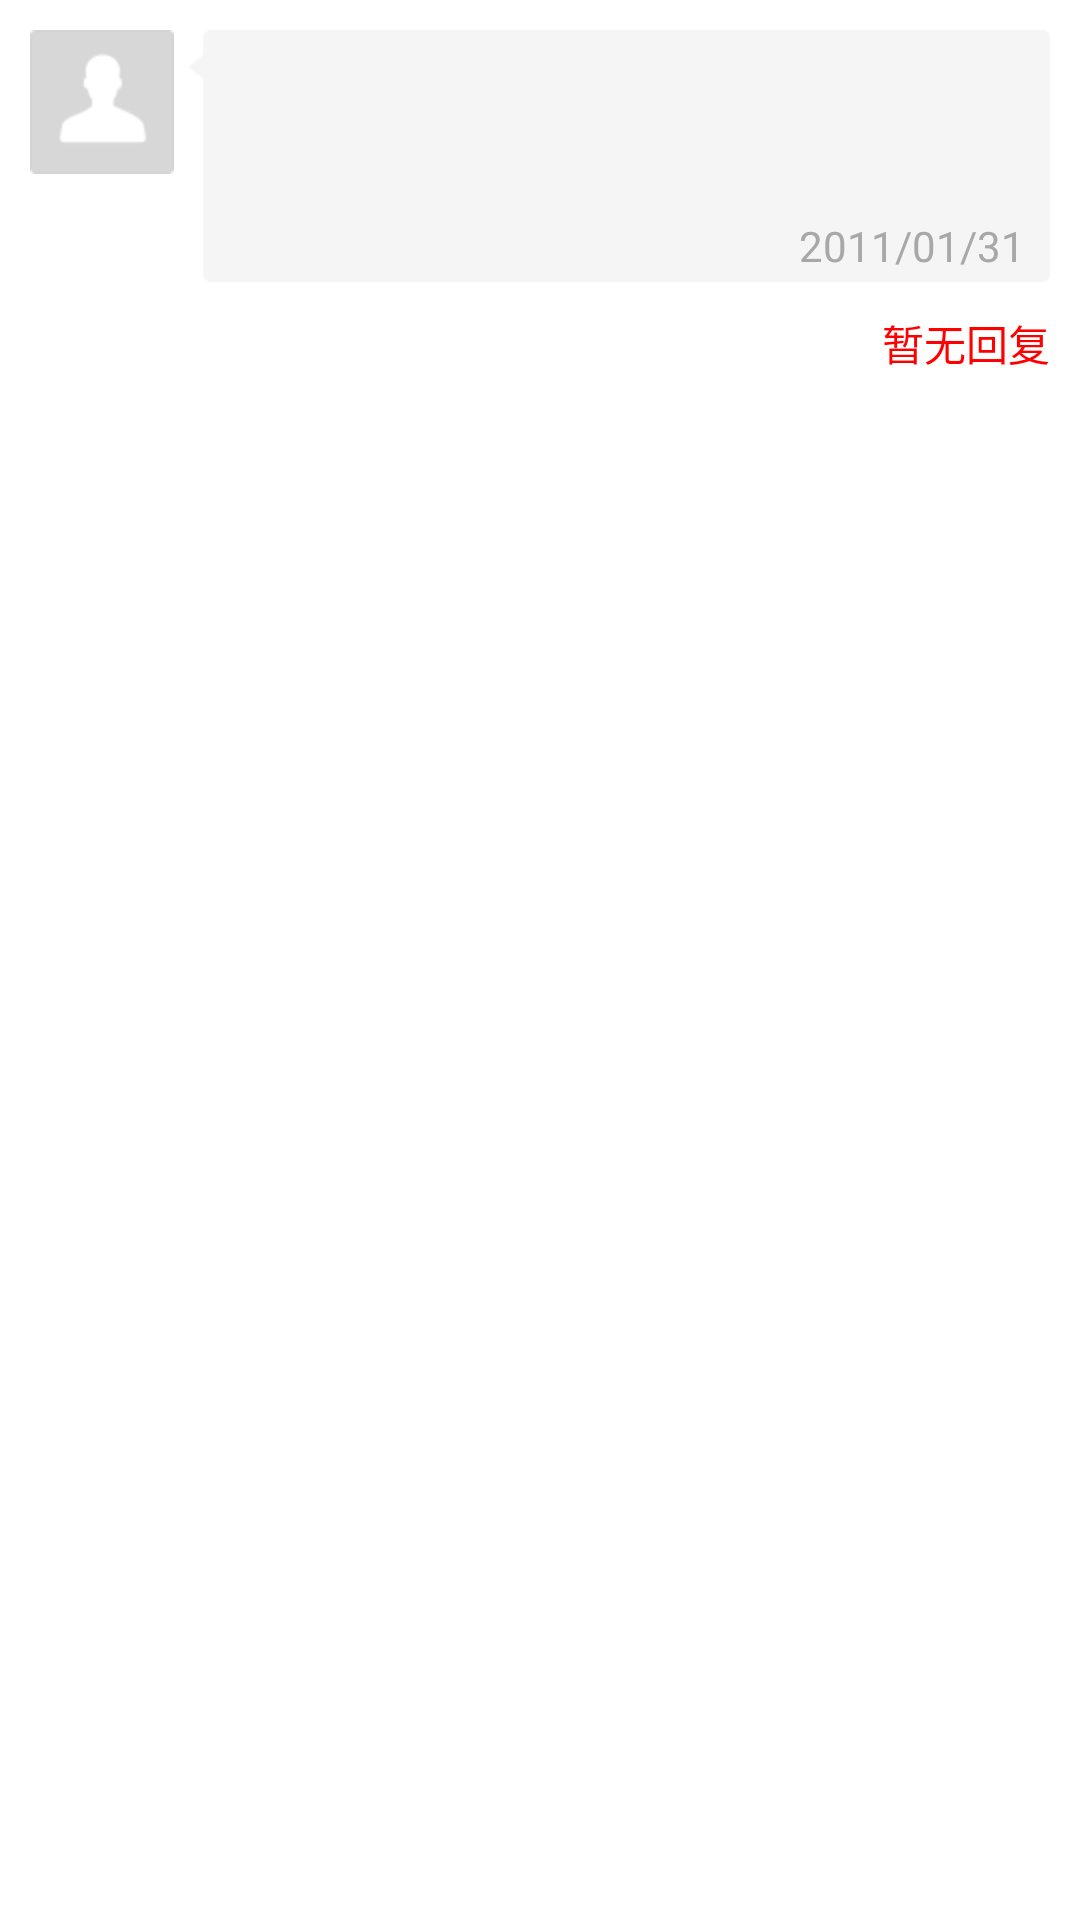

Screen size 1080 × 1920. Icon name, then its box in pixels as (x1,y1,x2,y2):
youke: (30,30,174,174)
